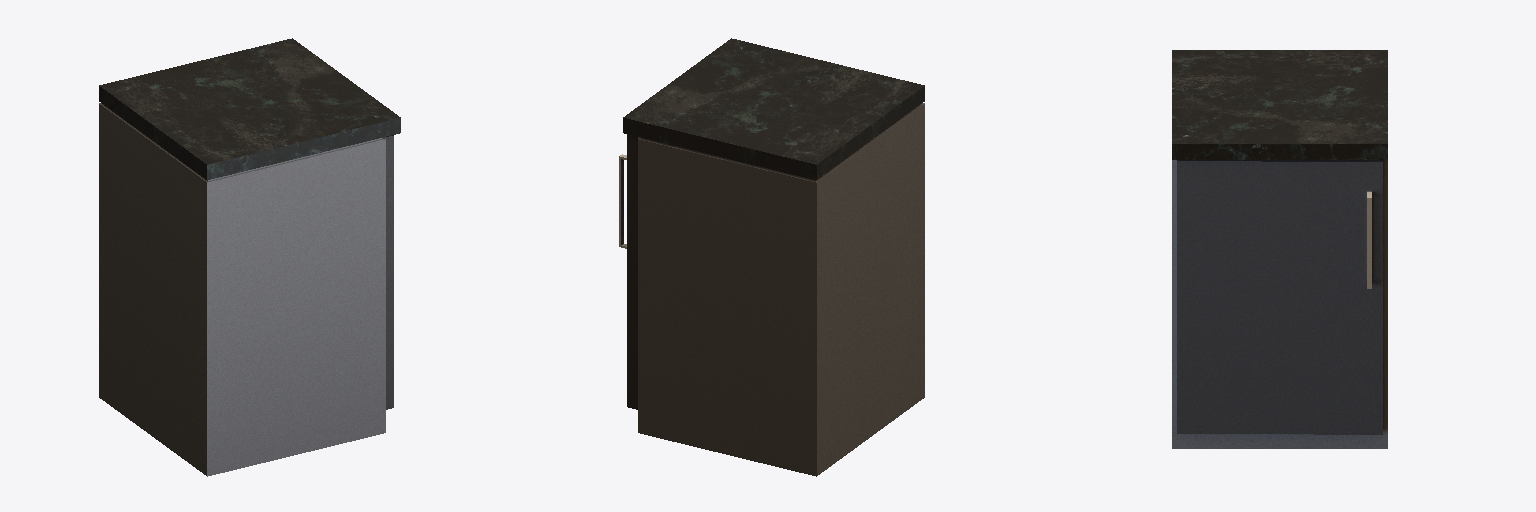
3 views of the same model, side by side, from view 1: azimuth 30°, elevation 25°; view 2: azimuth 150°, elevation 25°; view 3: azimuth 270°, elevation 25° (orthographic).
Visible parts, largest first — view 1: placard_Cube.007; view 2: placard_Cube.007; view 3: placard_Cube.007.
Part boxes in pixels (bbox=[...]): placard_Cube.007: bbox=[99, 38, 400, 476]; placard_Cube.007: bbox=[619, 38, 924, 476]; placard_Cube.007: bbox=[1172, 50, 1387, 448].
Size of the model in its own units: 1.38 by 2 by 1.26.
Materials: 1 (1 with a texture image).